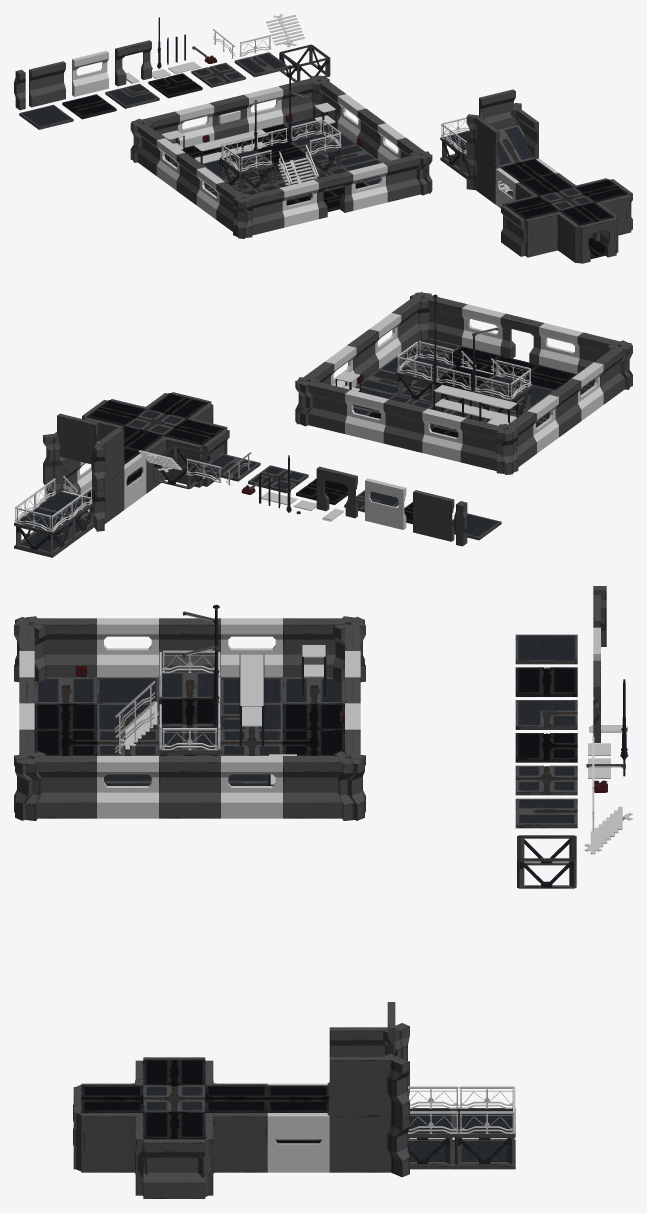
The model's file is Scene Bat.fbx.
The picture shows the model from 3 angles, top to bottom: view 1: azimuth 30°, elevation 25°; view 2: azimuth 150°, elevation 25°; view 3: azimuth 270°, elevation 25°; orthographic projection. The views are drawn at different scales.
Visible parts, largest first — view 1: pasted__Wall_14 (×4), pasted__Wall_12 (×4), pasted__Wall_15 (×4), pasted__Wall_13 (×3), pasted__Wall_17 (×2), pasted__Structure_01 (×2), pasted__Floor_05 (×2), pasted__Wall_01, pasted__Wall_02, pasted__Stairs_01 (×2), pasted__Floor_04 (×2), pasted__Wall_21 (+32 smaller); view 2: pasted__Wall_12 (×4), pasted__Wall_14 (×4), pasted__Wall_13 (×4), pasted__Wall_15 (×3), pasted__Wall_16 (×2), pasted__Wall_01, pasted__Floor_05 (×2), pasted__Wall_33, pasted__Wall_02, pasted__Wall_03, pasted__Wall_11, pasted__Structure_01 (+37 smaller); view 3: pasted__Wall_15 (×2), pasted__Wall_14 (×2), pasted__Wall_13 (×2), pasted__Wall_12 (×2), pasted__Wall_16, pasted__Wall_31, pasted__Wall_34, pasted__Floor_05 (×2), pasted__Wall_29, pasted__Wall_28, pasted__Wall_25, pasted__Wall_20 (+36 smaller).
Boxes of the visible parts, <box> form: pasted__Wall_14 (×4): <box>156,95,361,227</box>; pasted__Wall_12 (×4): <box>196,88,401,219</box>; pasted__Wall_15 (×4): <box>137,80,341,235</box>; pasted__Wall_13 (×3): <box>216,79,421,231</box>; pasted__Wall_17 (×2): <box>212,96,381,158</box>; pasted__Structure_01 (×2): <box>221,44,330,191</box>; pasted__Floor_05 (×2): <box>234,52,342,157</box>; pasted__Wall_01: <box>29,61,65,107</box>; pasted__Wall_02: <box>72,50,108,96</box>; pasted__Stairs_01 (×2): <box>266,14,314,185</box>; pasted__Floor_04 (×2): <box>191,62,273,192</box>; pasted__Wall_21: <box>525,212,561,257</box>; pasted__Wall_12 (×4): <box>374,314,603,462</box>; pasted__Wall_14 (×4): <box>330,306,558,453</box>; pasted__Wall_13 (×4): <box>397,297,625,470</box>; pasted__Wall_15 (×3): <box>307,297,536,466</box>; pasted__Wall_16 (×2): <box>383,379,581,452</box>; pasted__Wall_01: <box>413,490,454,541</box>; pasted__Floor_05 (×2): <box>199,356,455,481</box>; pasted__Wall_33: <box>57,413,98,463</box>; pasted__Wall_02: <box>365,478,406,529</box>; pasted__Wall_03: <box>316,466,357,518</box>; pasted__Wall_11: <box>500,315,541,364</box>; pasted__Structure_01: <box>153,445,210,489</box>; pasted__Wall_15 (×2): <box>34,621,96,818</box>; pasted__Wall_14 (×2): <box>97,621,158,818</box>; pasted__Wall_13 (×2): <box>283,621,344,818</box>; pasted__Wall_12 (×2): <box>221,621,282,818</box>; pasted__Wall_16: <box>159,759,220,818</box>; pasted__Wall_31: <box>329,1057,391,1116</box>; pasted__Wall_34: <box>143,1139,205,1198</box>; pasted__Floor_05 (×2): <box>159,724,577,828</box>; pasted__Wall_29: <box>329,1116,390,1172</box>; pasted__Wall_28: <box>267,1113,329,1172</box>; pasted__Wall_25: <box>205,1113,267,1172</box>; pasted__Wall_20: <box>81,1113,143,1172</box>.
Bounding box in the file's own units: 55.07 × 24.88 × 39.9.
